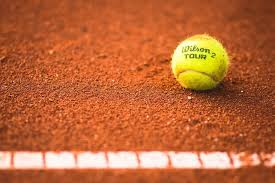tennis_ball: (171, 32, 228, 93)
